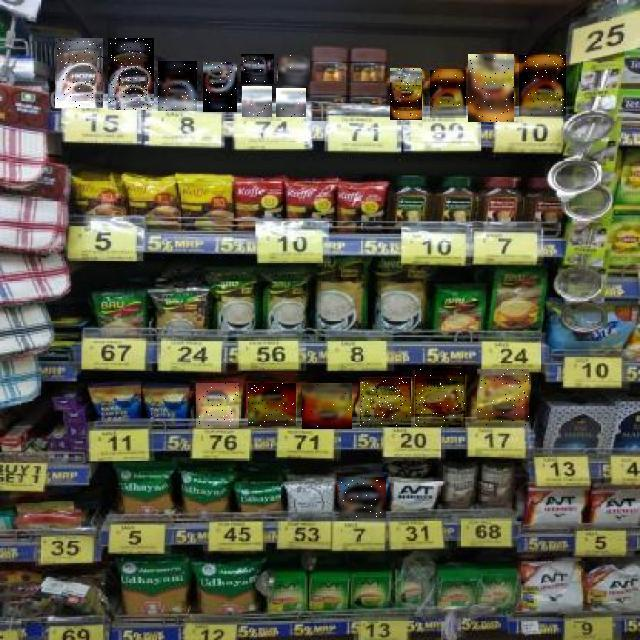Coffee: (55, 38, 103, 108), (109, 38, 155, 110), (469, 55, 515, 123), (415, 368, 465, 427), (477, 370, 529, 426), (519, 55, 566, 116), (360, 378, 411, 427), (303, 383, 353, 429), (249, 383, 297, 426), (158, 61, 197, 111), (196, 383, 239, 428), (339, 477, 386, 518), (431, 70, 467, 118), (203, 62, 237, 112), (390, 68, 422, 120), (241, 54, 274, 84), (278, 55, 310, 85), (242, 86, 272, 117), (276, 88, 306, 117)
